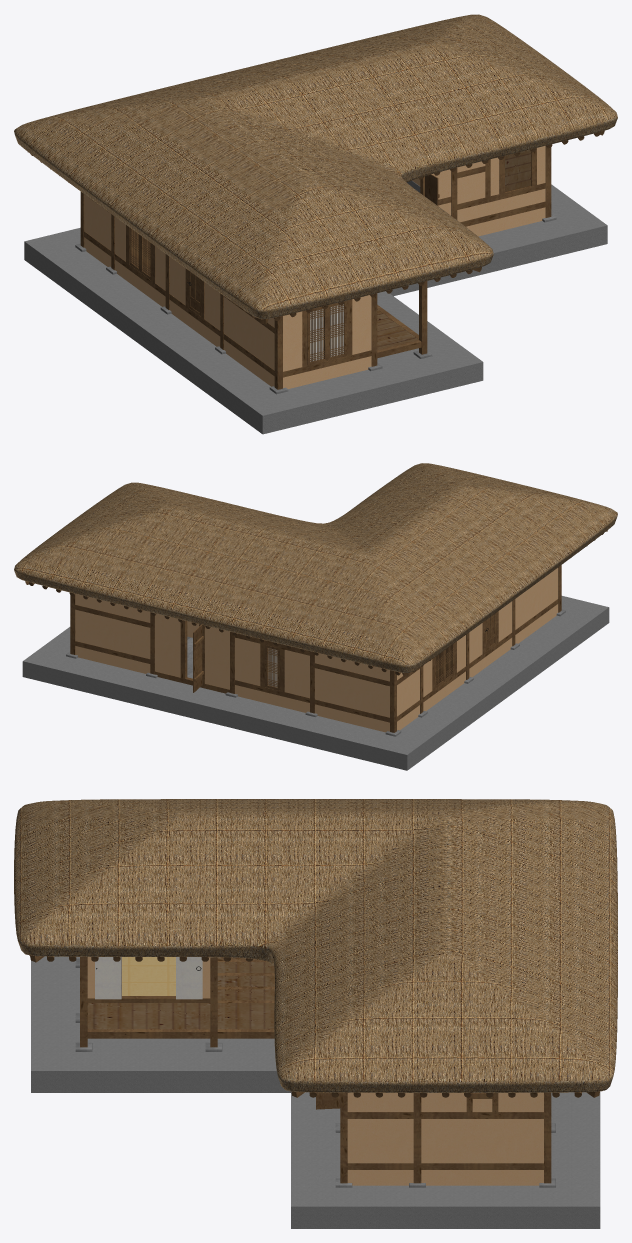
3 views of the same model, one above another, from view 1: azimuth 30°, elevation 25°; view 2: azimuth 150°, elevation 25°; view 3: azimuth 270°, elevation 25° (orthographic). The views are drawn at different scales.
Visible parts, largest first — view 1: roof_thatch_003, floor_ext_001, wall_hw_001, wall_hw_002, pillar_001, bm_h_001, door_fr_001, bm_v_001, bm_h_002, door_paper_001, door_fr_034, floor_wd_001 (+5 smaller); view 2: roof_thatch_003, floor_ext_001, wall_hw_002, bm_h_002, pillar_001, bm_v_002, door_fr_014, door_fr_015, door_fr_031, roof_wd_004, pillar_bs_001; view 3: roof_thatch_003, floor_ext_001, wall_hw_001, floor_wd_001, pillar_001, bm_h_001, floor_fr_001, door_paper_002, floor_001, pillar_bs_001.
Part boxes in pixels (x1=…): roof_thatch_003: x1=14, y1=14, x2=617, y2=319; floor_ext_001: x1=24, y1=180, x2=607, y2=434; wall_hw_001: x1=283, y1=146, x2=545, y2=388; wall_hw_002: x1=84, y1=178, x2=420, y2=386; pillar_001: x1=80, y1=146, x2=551, y2=389; bm_h_001: x1=283, y1=166, x2=545, y2=377; door_fr_001: x1=307, y1=301, x2=346, y2=365; bm_v_001: x1=302, y1=148, x2=536, y2=367; bm_h_002: x1=84, y1=194, x2=274, y2=375; door_paper_001: x1=310, y1=304, x2=343, y2=361; door_fr_034: x1=505, y1=150, x2=530, y2=192; floor_wd_001: x1=377, y1=309, x2=418, y2=349; roof_thatch_003: x1=14, y1=463, x2=617, y2=672; floor_ext_001: x1=22, y1=596, x2=609, y2=770; wall_hw_002: x1=75, y1=568, x2=558, y2=732; bm_h_002: x1=75, y1=567, x2=558, y2=722; pillar_001: x1=70, y1=565, x2=561, y2=732; bm_v_002: x1=180, y1=611, x2=498, y2=691; door_fr_014: x1=435, y1=643, x2=454, y2=688; door_fr_015: x1=265, y1=645, x2=279, y2=690; door_fr_031: x1=193, y1=624, x2=202, y2=692; roof_wd_004: x1=29, y1=582, x2=400, y2=675; pillar_bs_001: x1=66, y1=609, x2=565, y2=736; roof_thatch_003: x1=14, y1=799, x2=617, y2=1092; floor_ext_001: x1=31, y1=956, x2=600, y2=1228; wall_hw_001: x1=87, y1=957, x2=543, y2=1185; floor_wd_001: x1=87, y1=957, x2=274, y2=1029; pillar_001: x1=80, y1=957, x2=551, y2=1183; bm_h_001: x1=87, y1=996, x2=543, y2=1169; floor_fr_001: x1=87, y1=959, x2=274, y2=1038; door_paper_002: x1=95, y1=957, x2=202, y2=999; floor_001: x1=122, y1=957, x2=175, y2=995; pillar_bs_001: x1=75, y1=958, x2=555, y2=1187.
Bounding box in the file's own units: 13462 × 4912 × 12310.
